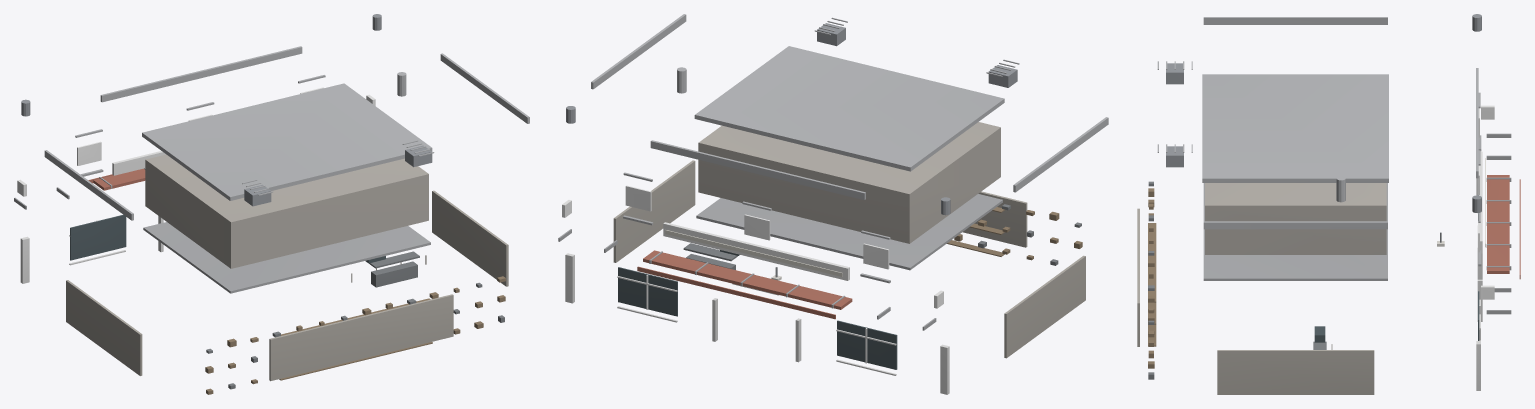
The model's file is shop-enterable.fbx.
3 views of the same model, side by side, from view 1: azimuth 30°, elevation 25°; view 2: azimuth 150°, elevation 25°; view 3: azimuth 270°, elevation 25° (orthographic). The views are drawn at different scales.
Visible parts, largest first — view 1: Building; view 2: Building; view 3: Building.
Part boxes in pixels (x1=…): Building: x1=14, y1=14, x2=529, y2=394; Building: x1=558, y1=14, x2=1108, y2=394; Building: x1=1137, y1=14, x2=1520, y2=394.
Size of the model in its own units: 1609 by 759 by 1268.
